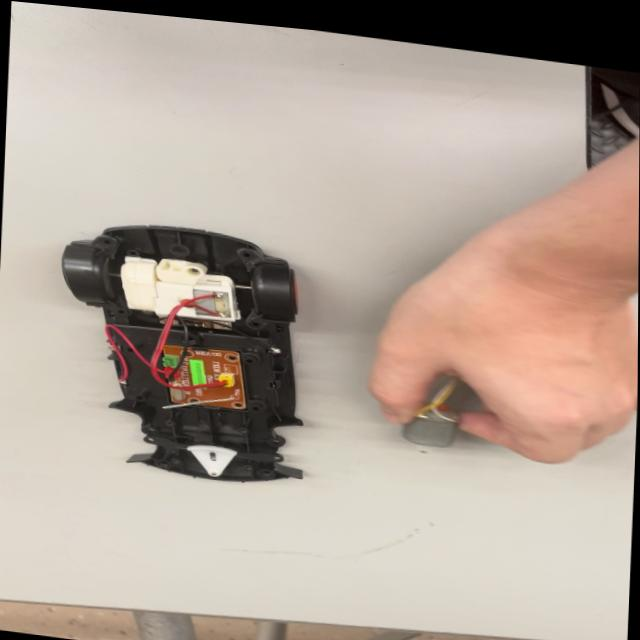Chassis: (79, 214, 308, 492)
motor: (385, 393, 470, 460)
